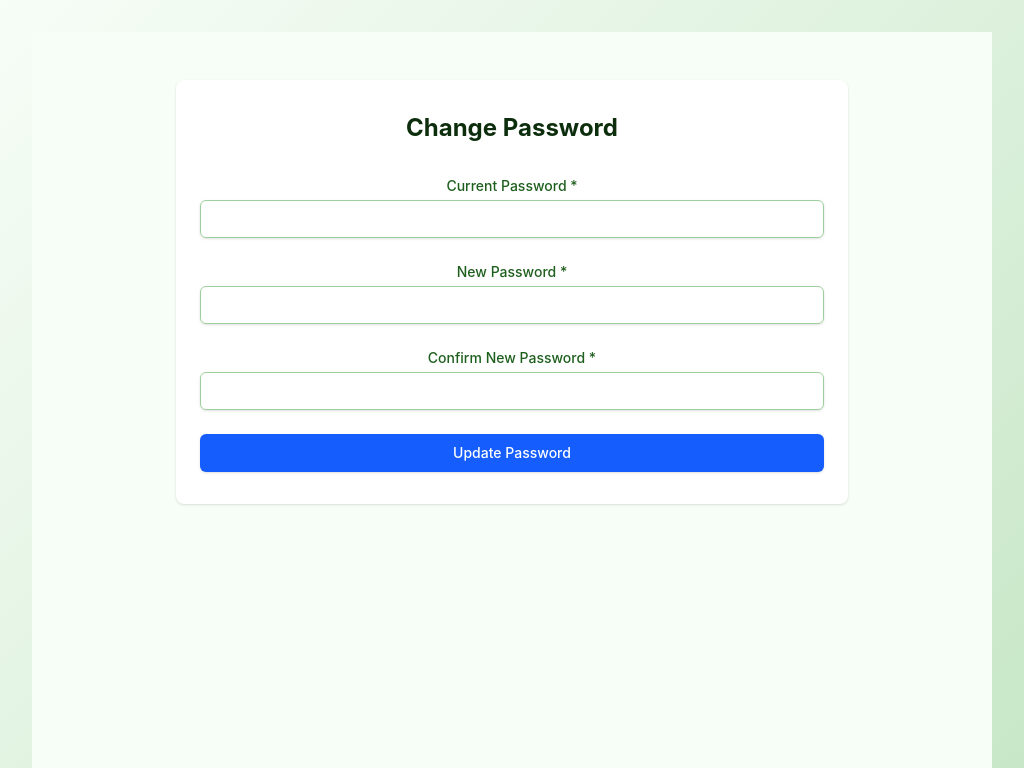
Test: ChangePasswordPage › Password Strength Validation › should show password requirements when focused
Check: the heading "Change Password" is shown, box x1=406 y1=113 x2=618 y2=142
Click the password field labelled "New Password *" at {"x": 512, "y": 305}, box x1=200 y1=286 x2=824 y2=324
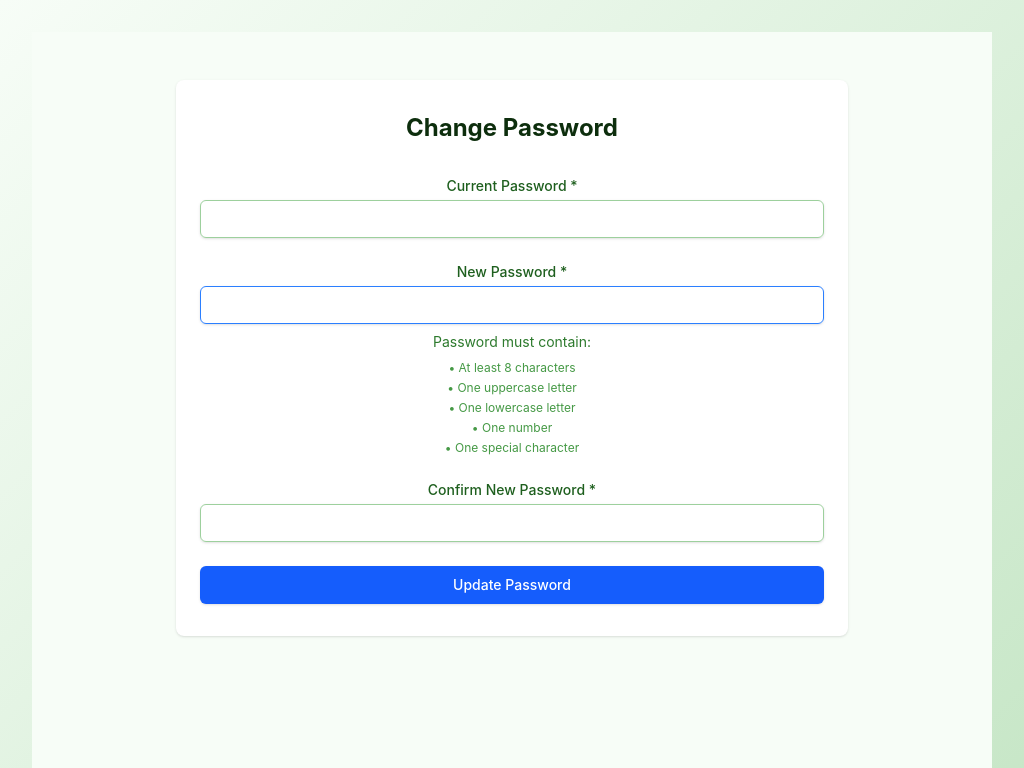
Check: the text "Password must contain:" is shown, box x1=433 y1=333 x2=591 y2=350
Check: the list item "• At least 8 characters" is shown, box x1=448 y1=360 x2=576 y2=375
Check: the list item "• One uppercase letter" is shown, box x1=447 y1=380 x2=577 y2=395
